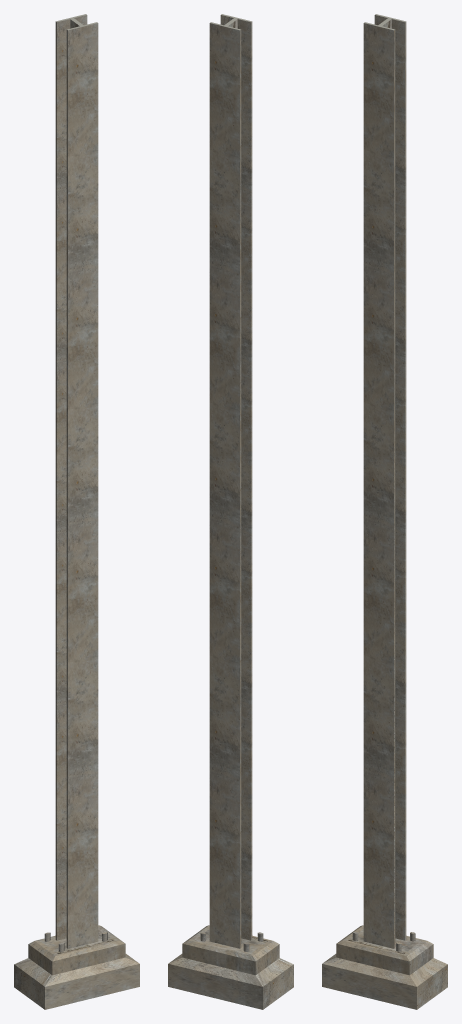
File: PostA.FBX
3 views of the same model, side by side, from view 1: azimuth 30°, elevation 25°; view 2: azimuth 150°, elevation 25°; view 3: azimuth 330°, elevation 25° (orthographic).
Visible parts, largest first — view 1: PostA; view 2: PostA; view 3: PostA.
Part boxes in pixels (x1,y1,x2,y2): PostA: (14, 14, 139, 1009); PostA: (168, 14, 293, 1009); PostA: (322, 14, 447, 1009).
Size of the model in its own units: 62.68 by 610 by 35.35.
